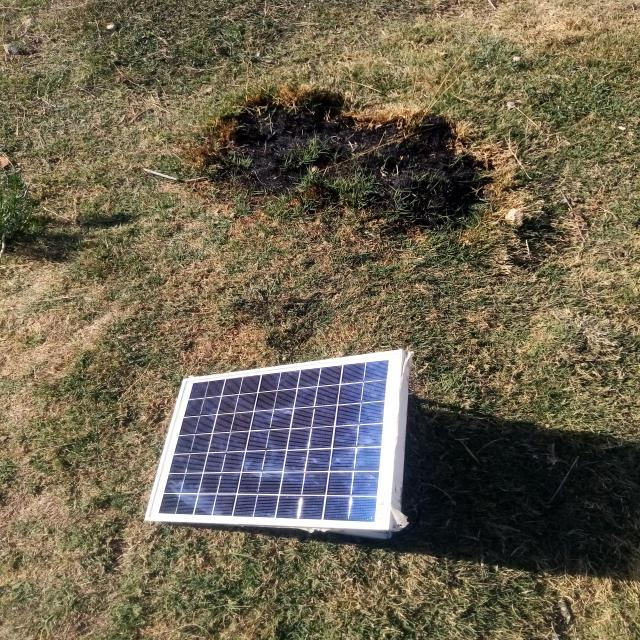no faulty: (146, 351, 402, 531)
